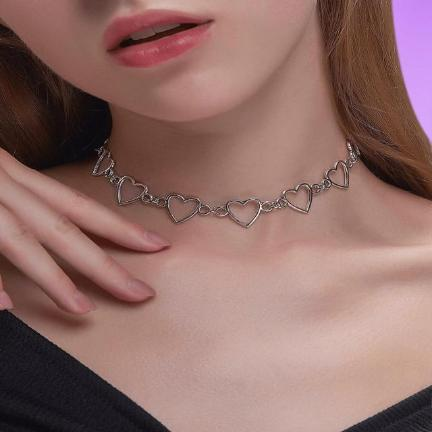Nail: (144, 229, 173, 247), (129, 278, 156, 296), (75, 291, 97, 311), (0, 290, 14, 309)
